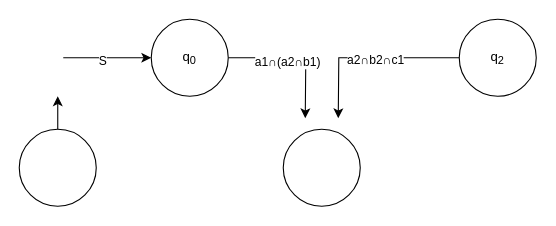
This 556x226 diagram has some shape labels left out. The centre of each missing label's shape, as x and y in pixels:
q 3: the point at 321,167
q 6: the point at 57,167
